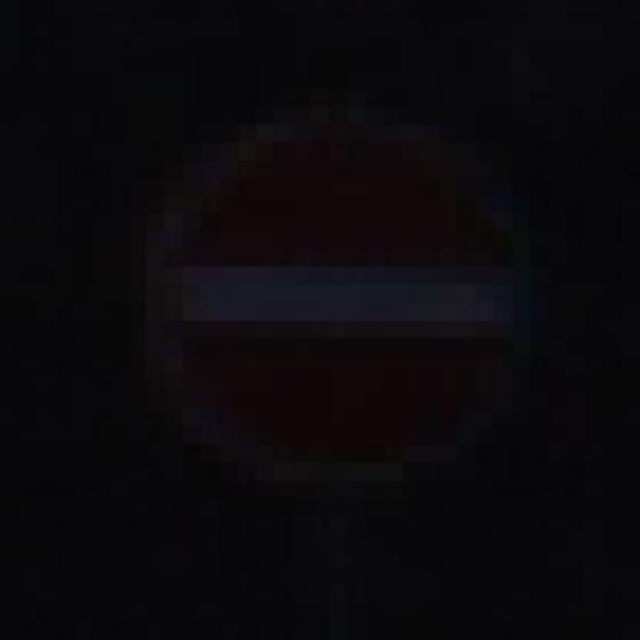No Entry: (88, 70, 582, 498)
